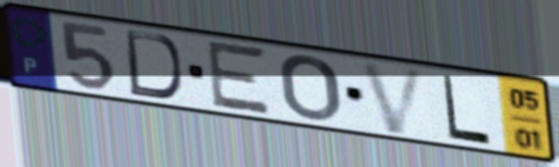5: (57, 19, 121, 92)
D: (123, 27, 186, 102)
E: (206, 38, 274, 118)
L: (440, 72, 494, 148)
O: (276, 53, 344, 123)
V: (357, 60, 431, 138)
